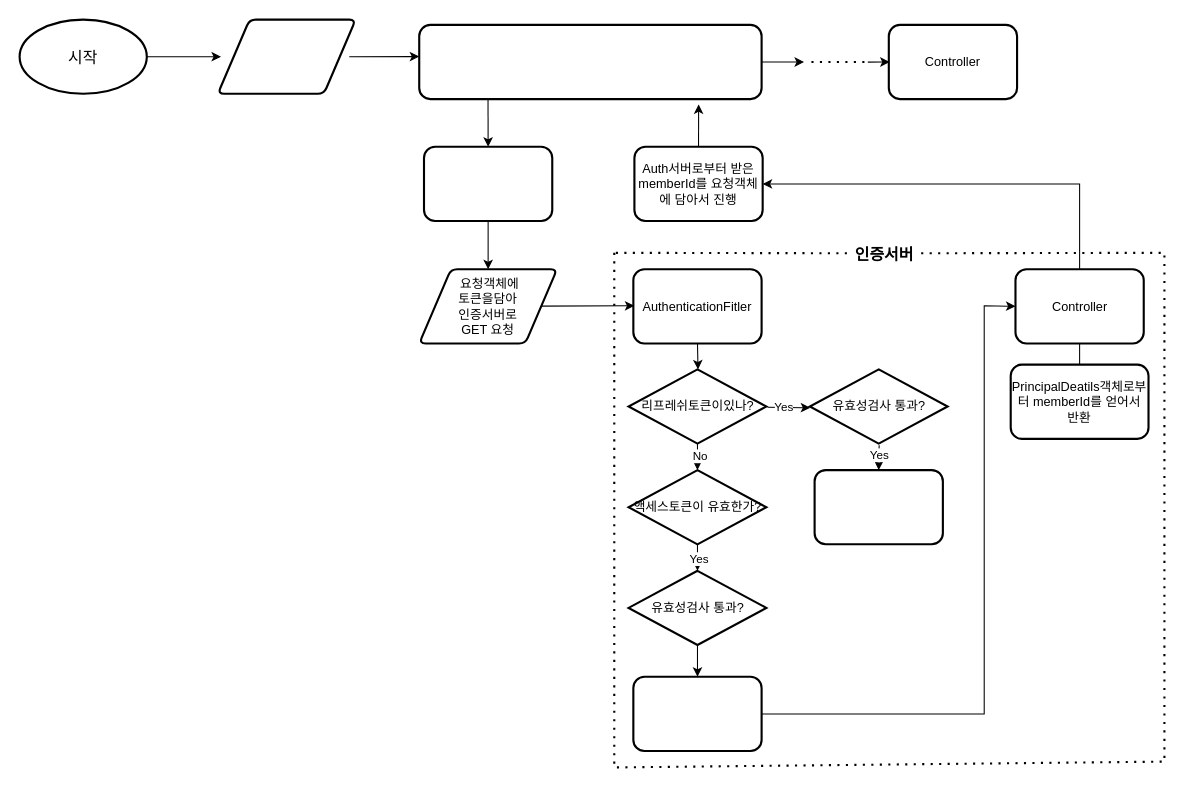
The diagram is 1184 pixels wide and 788 high, and some of its shapes have lost their labels. The shapes that lost their labels are listed below. From the top down, each one's centre as x and y in pixels, then its label:
At (x=286, y=56): "Business서버로 요청".
At (x=590, y=61): "인증필터".
At (x=487, y=183): "request.headers에서 토큰 가져옴".
At (x=878, y=507): "토큰 재발급 및 응답 종료".
At (x=697, y=713): "Authentication객체 생성 및 저장".
